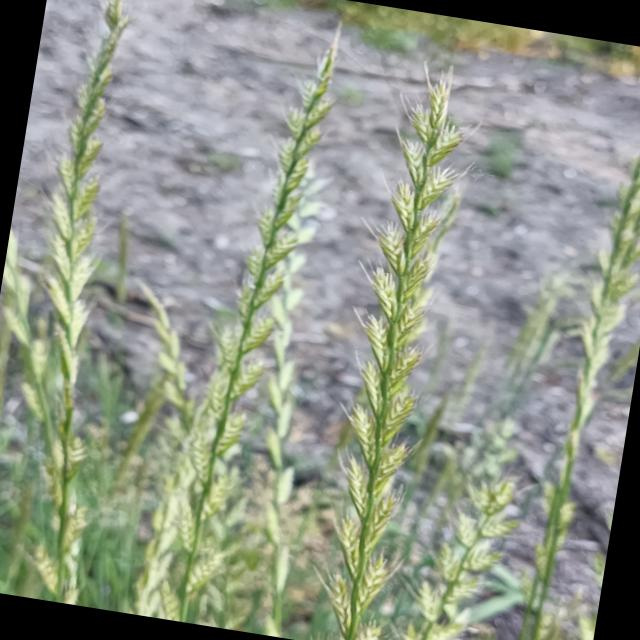Lolium: (422, 54, 640, 640), (144, 23, 352, 634), (293, 52, 493, 640), (0, 0, 180, 606), (416, 271, 577, 640), (402, 459, 530, 640)
